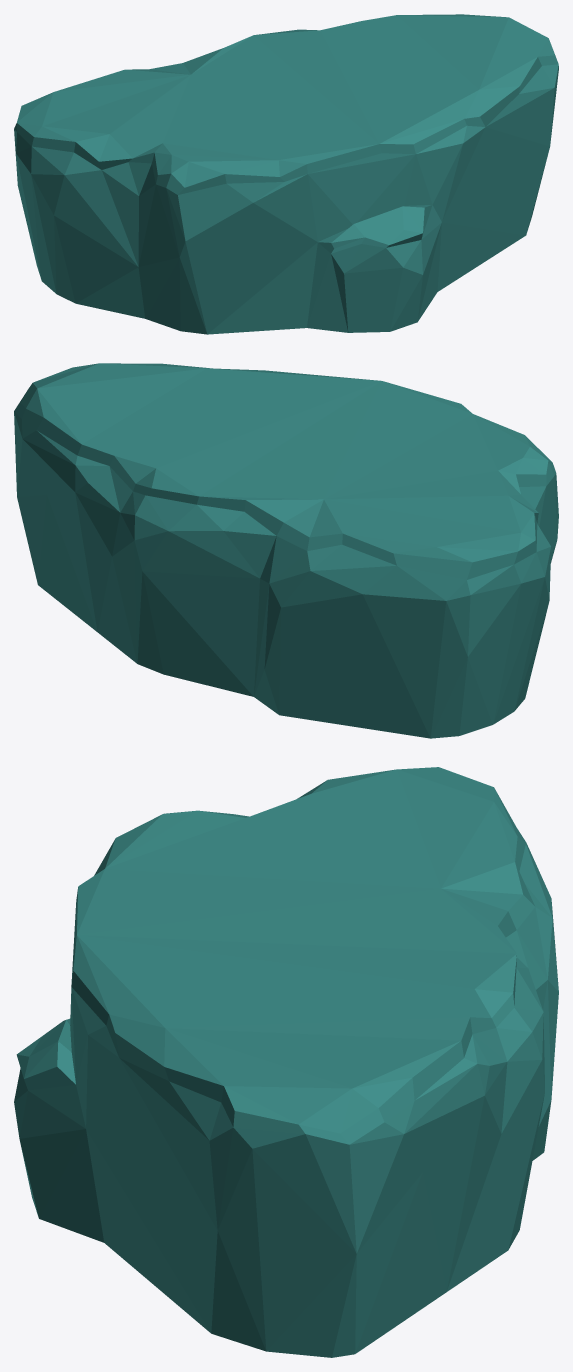
The model's file is SM_Rock_Sea_Medium_Flat_Seaweed_A.fbx.
3 views of the same model, one above another, from view 1: azimuth 30°, elevation 25°; view 2: azimuth 150°, elevation 25°; view 3: azimuth 270°, elevation 25° (orthographic). The views are drawn at different scales.
Parts seen in each view (by area): view 1: rock-sea-medium-flat-seaweed-a; view 2: rock-sea-medium-flat-seaweed-a; view 3: rock-sea-medium-flat-seaweed-a.
Boxes of the visible parts, left/top/right/bottom form: rock-sea-medium-flat-seaweed-a: left=14, top=14, right=558, bottom=334; rock-sea-medium-flat-seaweed-a: left=14, top=363, right=558, bottom=738; rock-sea-medium-flat-seaweed-a: left=14, top=767, right=558, bottom=1357.
Bounding box in the file's own units: 5.34 × 1.88 × 3.39.
